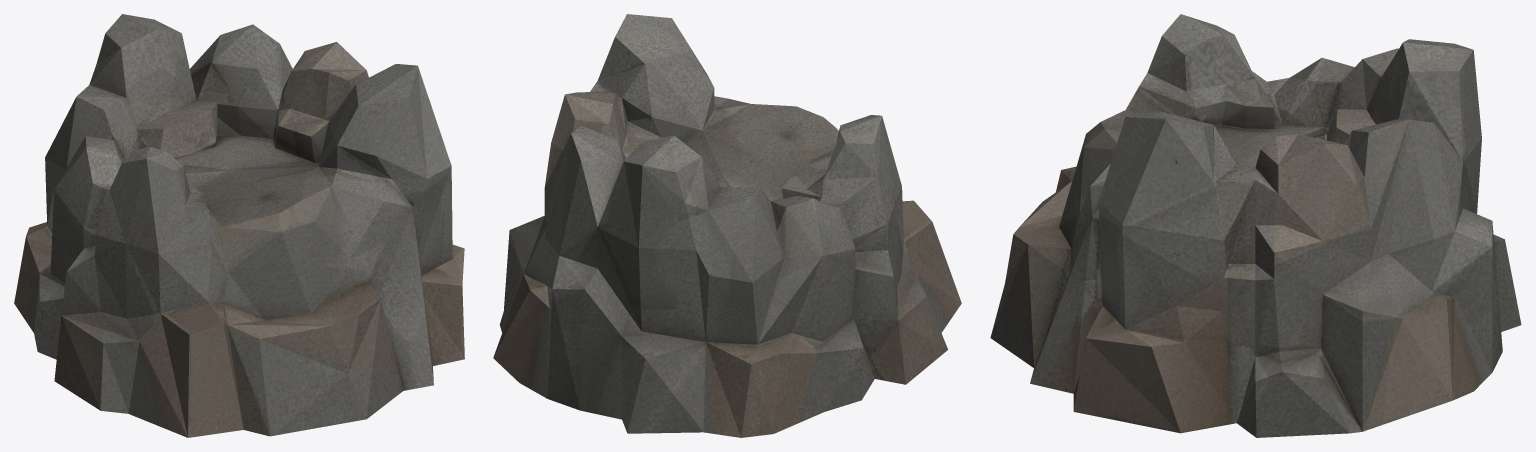
The model's file is rock.glb.
The picture shows the model from 3 angles, left to right: view 1: azimuth 30°, elevation 25°; view 2: azimuth 150°, elevation 25°; view 3: azimuth 270°, elevation 25°; orthographic projection. The views are drawn at different scales.
Parts seen in each view (by area): view 1: tripo_node_379977c5-3bef-468f-a04d-fa7f2b0a0c20; view 2: tripo_node_379977c5-3bef-468f-a04d-fa7f2b0a0c20; view 3: tripo_node_379977c5-3bef-468f-a04d-fa7f2b0a0c20.
Boxes of the visible parts, x1,y1,x2,y2 form: tripo_node_379977c5-3bef-468f-a04d-fa7f2b0a0c20: (14,14,464,437); tripo_node_379977c5-3bef-468f-a04d-fa7f2b0a0c20: (493,14,961,437); tripo_node_379977c5-3bef-468f-a04d-fa7f2b0a0c20: (990,14,1521,437).
Size of the model in its own units: 0.8848 by 0.6074 by 0.998.
1 material, 1 textured.
